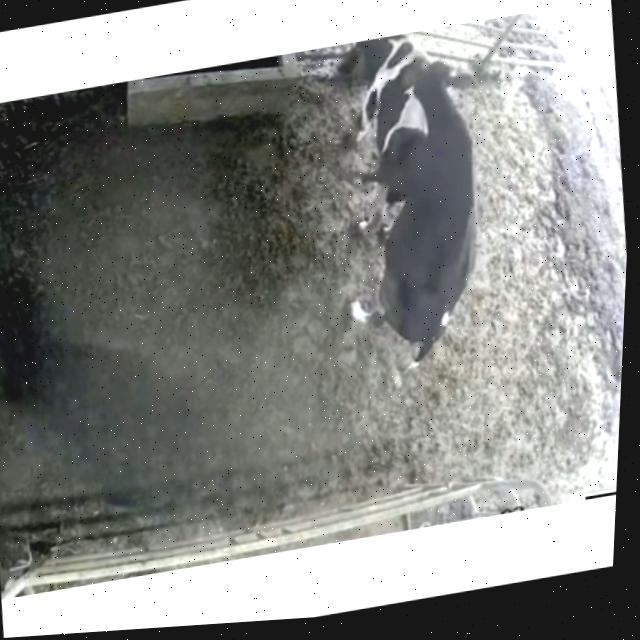ride: (302, 37, 530, 389)
